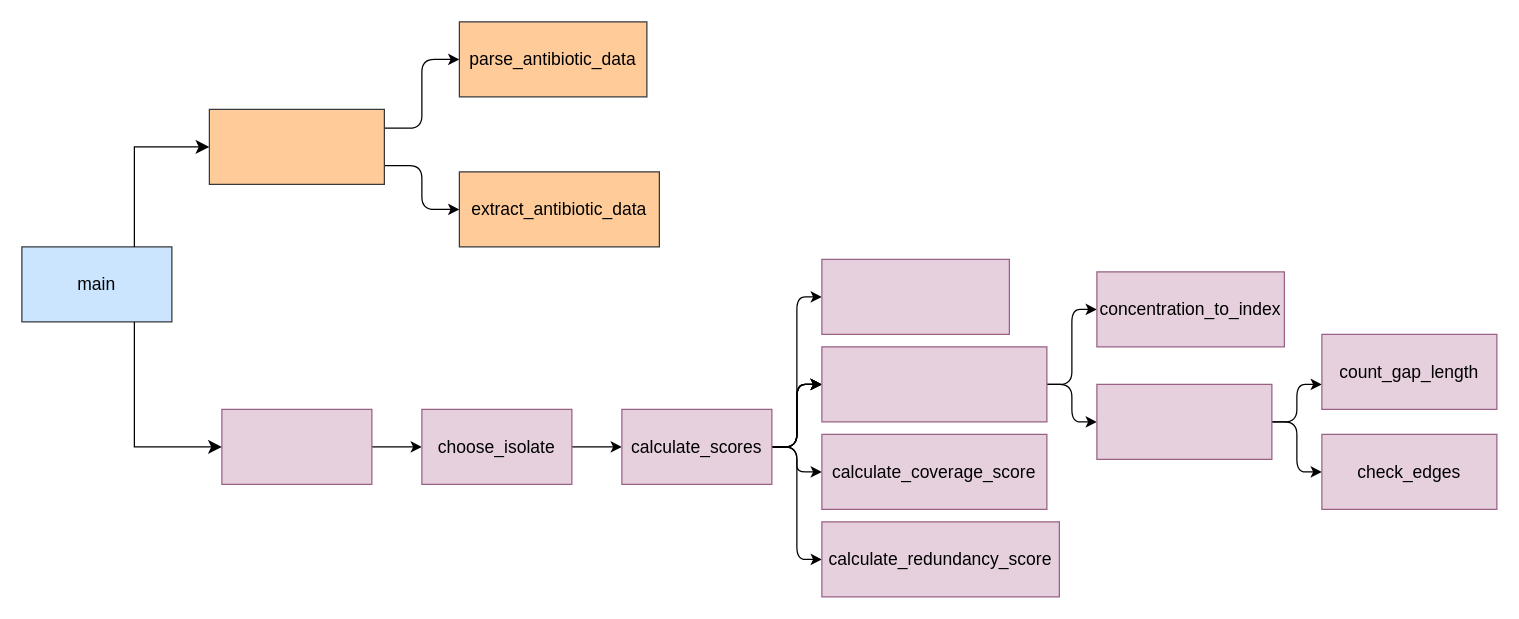
This 1519x619 diagram has some shape labels left out. Here are the shapes that lost their labels. From the top down, the box of each, then its label:
(208, 108, 384, 184): create_isolate_list
(821, 258, 1009, 334): extract_panel_data
(821, 346, 1047, 422): calculate_spread_score
(1096, 383, 1272, 459): score_spread_list
(221, 408, 372, 484): add_isolate
